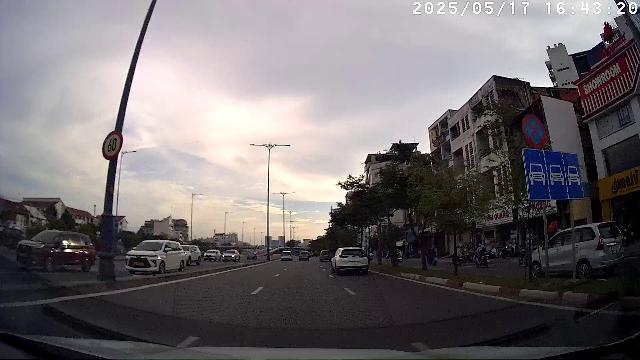127-toc-do-toi-da-60: (101, 130, 123, 160)
130-cam-dung-va-do-xe: (522, 114, 546, 148)
